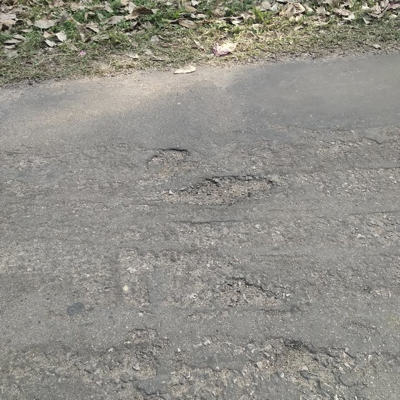pothole: (172, 174, 276, 205), (262, 338, 325, 385), (214, 276, 283, 309), (112, 350, 162, 380), (145, 146, 191, 170)
